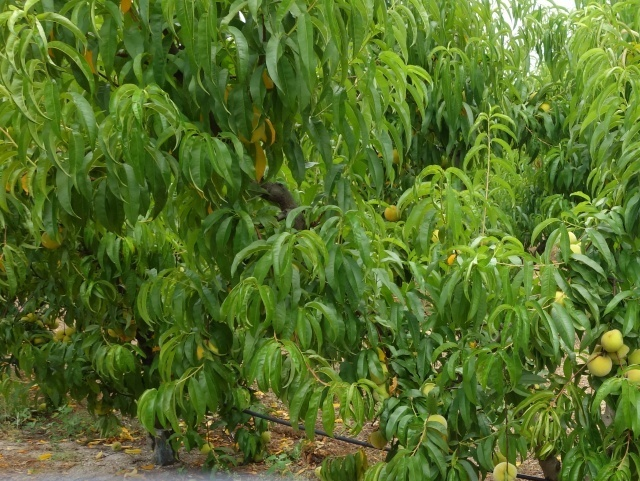peach: (586, 350, 614, 378), (37, 228, 66, 253), (599, 328, 625, 355), (368, 363, 392, 389), (491, 461, 520, 481), (370, 376, 393, 401), (610, 343, 632, 367), (425, 412, 449, 433), (367, 428, 388, 451), (415, 380, 440, 399), (380, 202, 402, 222), (624, 366, 640, 388), (198, 440, 216, 458)
